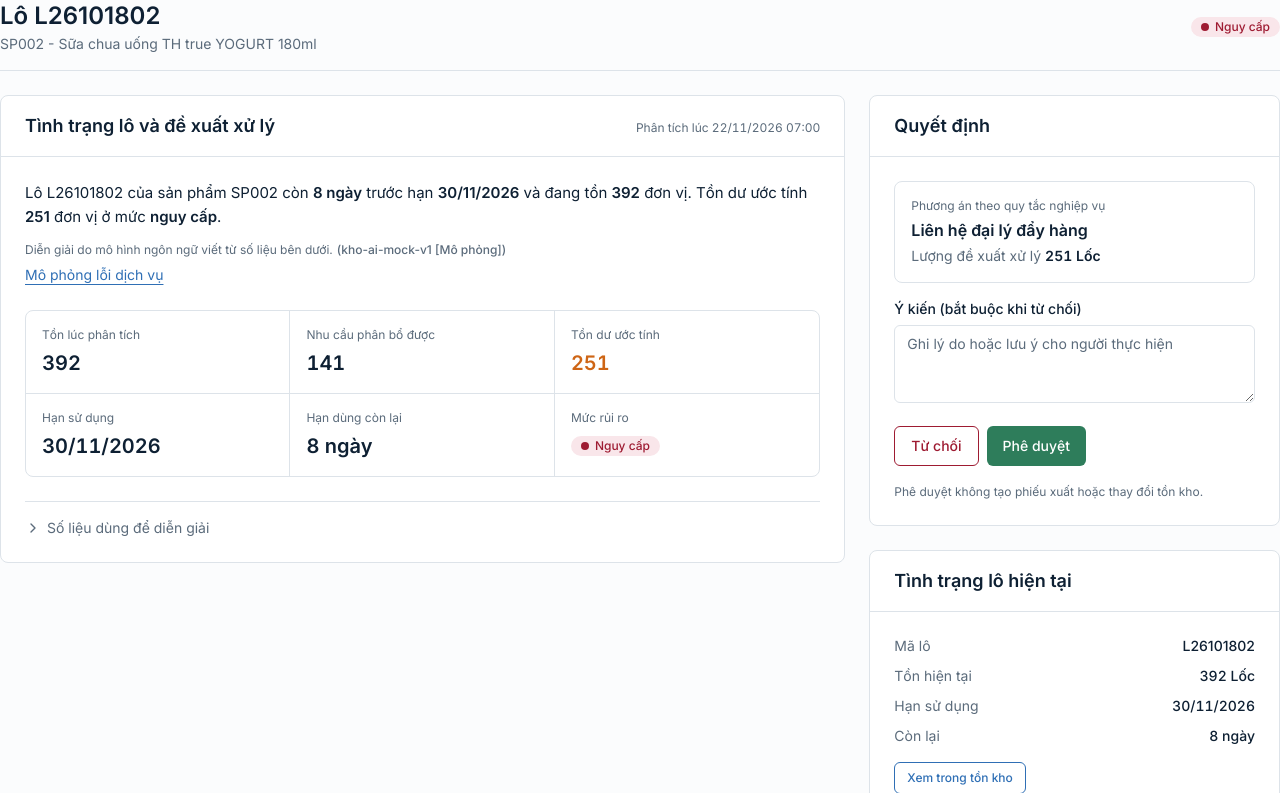
Test: ProposalDetailPage — Diễn giải LLM & Khối Quyết định (T-014 + T-015 AC9, mockup 22–26) › bắt buộc nhập lý do khi từ chối; phê duyệt mở hộp thoại mockup 25 → chuyển trạng thái đã phê duyệt (mockup 26) + toast
// Bấm Từ chối khi ô ý kiến trống → báo lỗi, không mở dialog xác nhận
Click the button "Từ chối". click: (936, 446)
box: top-left (894, 426), bottom-right (978, 466)
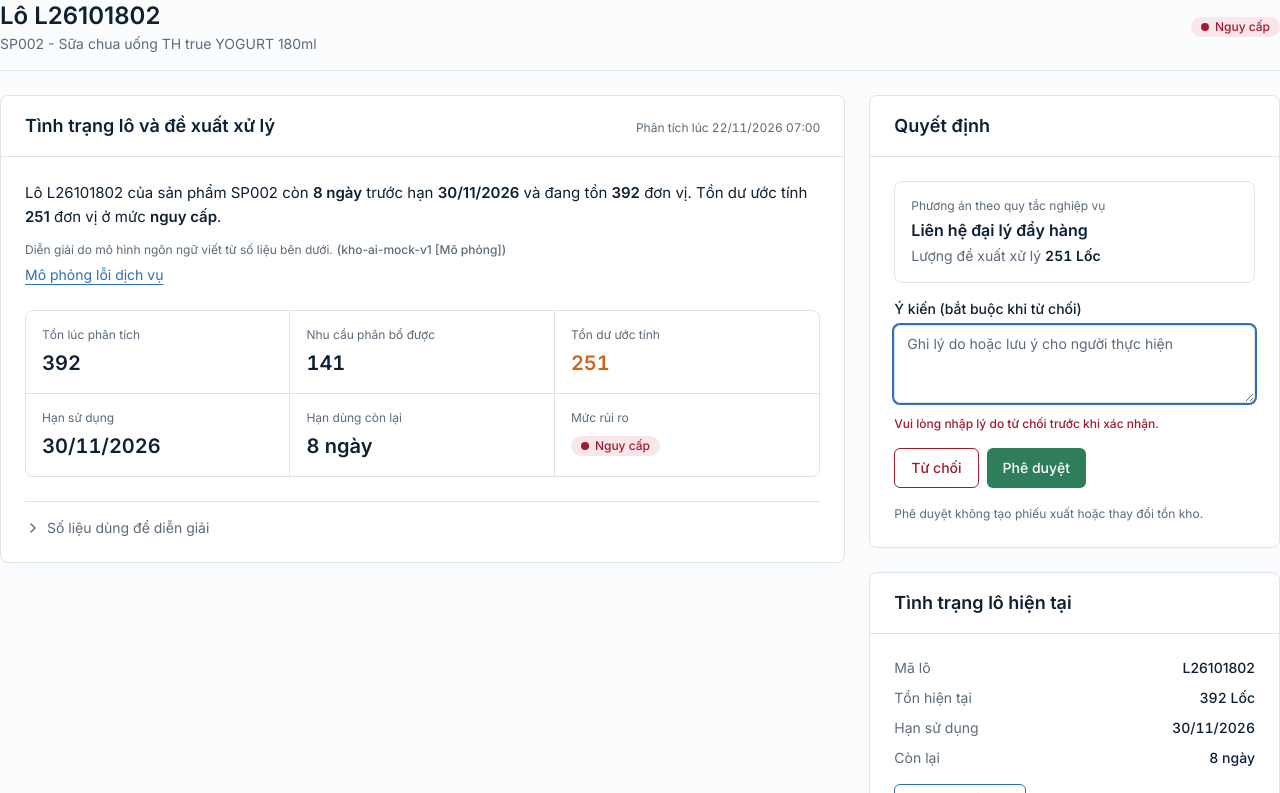
Expected: the text "Vui lòng nhập lý do từ chối trước khi xác nhận." is shown, top-left (894, 416), bottom-right (1159, 430)
Type "Ưu tiên gọi đại lý trong tuần" into the text box labelled "Ý kiến (bắt buộc khi từ chối)". click: (1075, 364)
box: top-left (894, 325), bottom-right (1255, 403)
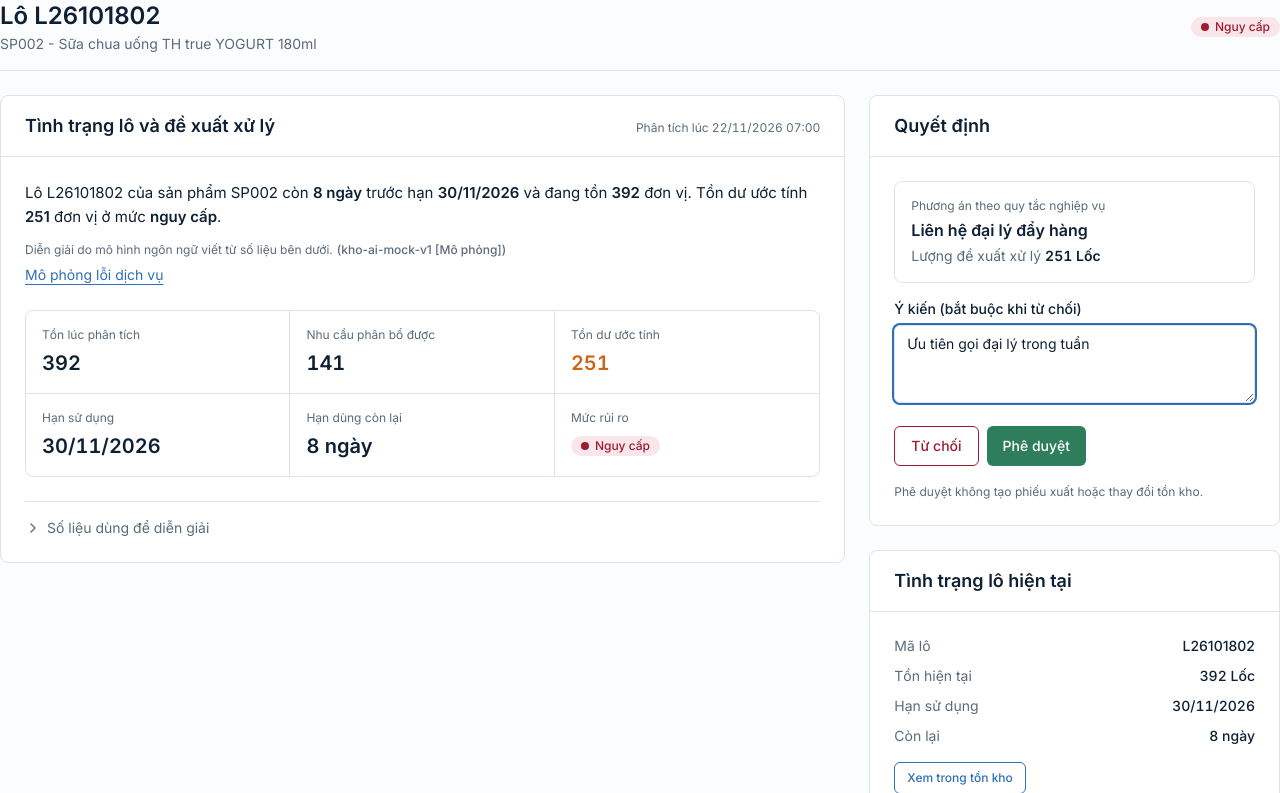
Click the button "Phê duyệt". click: (1036, 446)
box: top-left (986, 426), bottom-right (1086, 466)
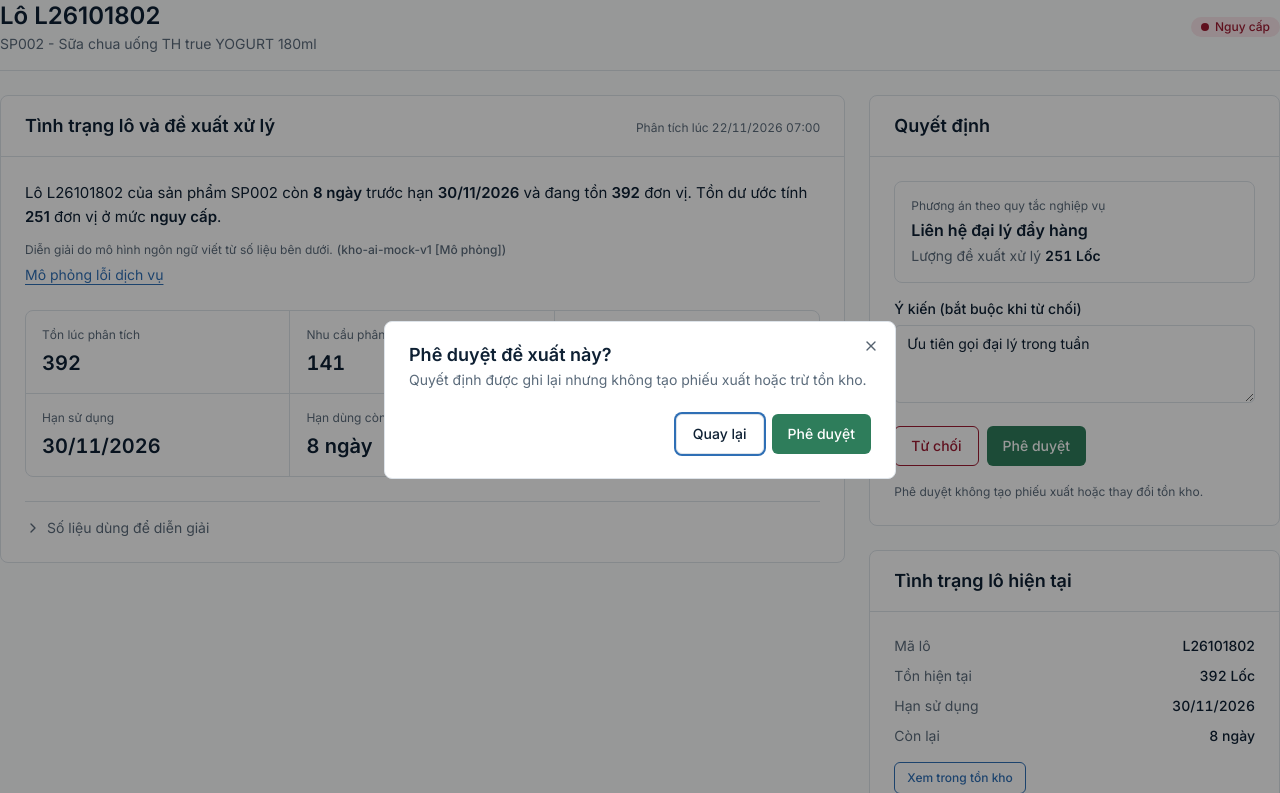
Expected: the heading "Phê duyệt đề xuất này?" is shown, top-left (409, 344), bottom-right (612, 365)
Expected: the text "Quyết định được ghi lại nhưng không tạo phiếu xuất hoặc trừ tồn kho." is shown, top-left (409, 370), bottom-right (871, 390)
// Xác nhận trong hộp thoại
Click the button "Phê duyệt". click: (821, 434)
box: top-left (772, 414), bottom-right (871, 454)
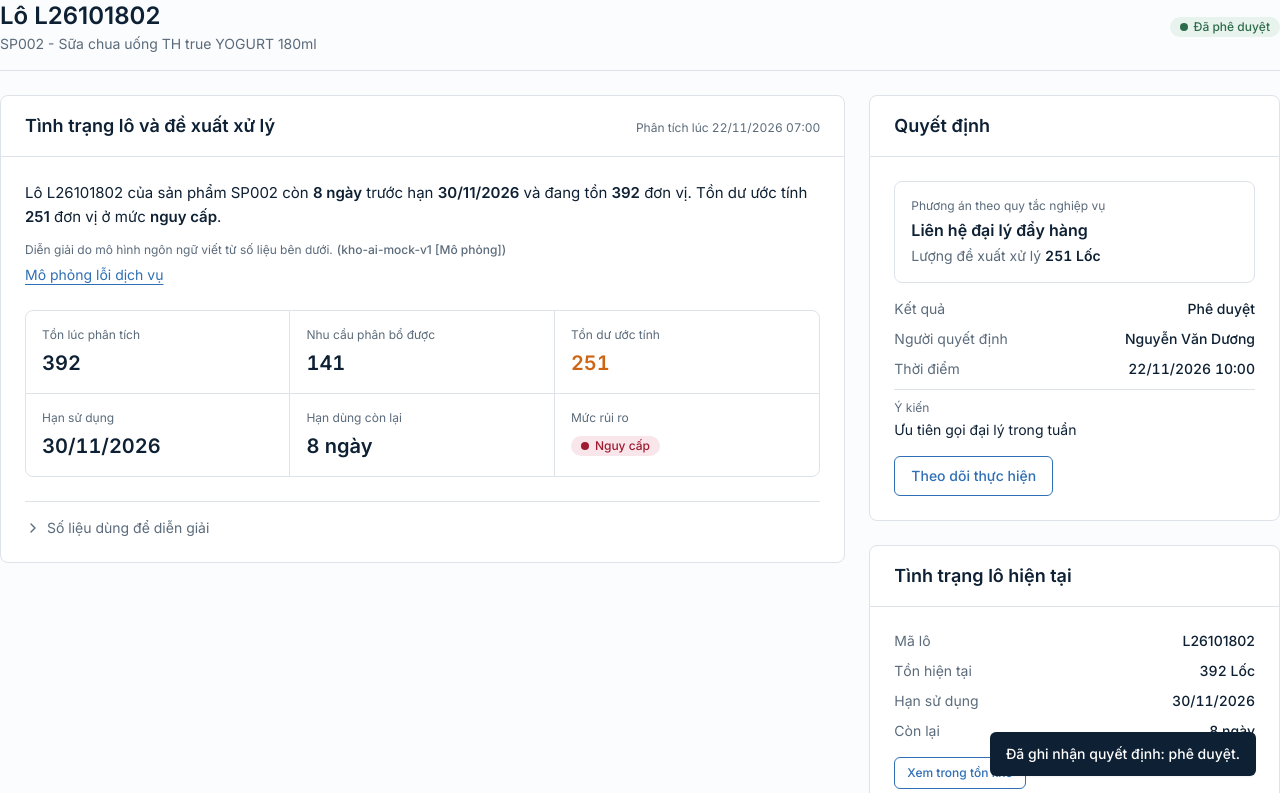
Expected: the text "Đã ghi nhận quyết định: phê duyệt." is shown, top-left (990, 732), bottom-right (1256, 776)
Expected: the text "Nguyễn Văn Dương" is shown, top-left (1125, 329), bottom-right (1255, 349)
Expected: the label "từ chối" is gone
